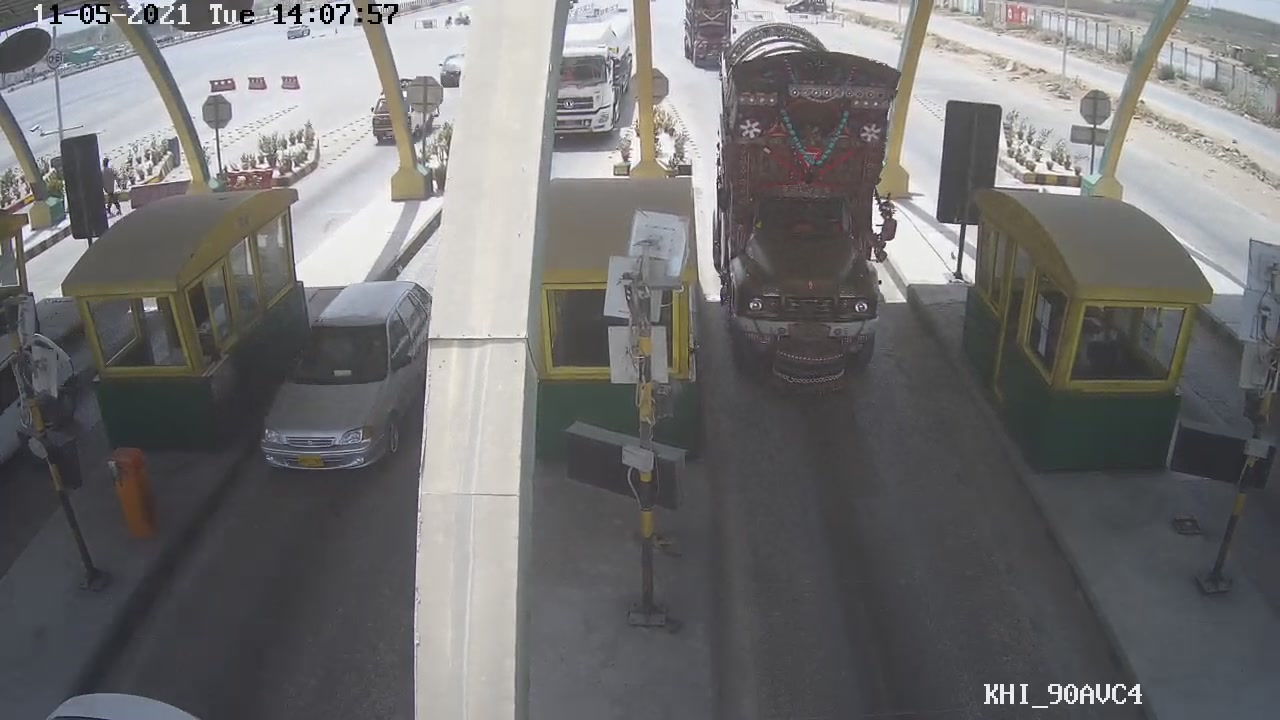F5: (699, 38, 910, 396)
